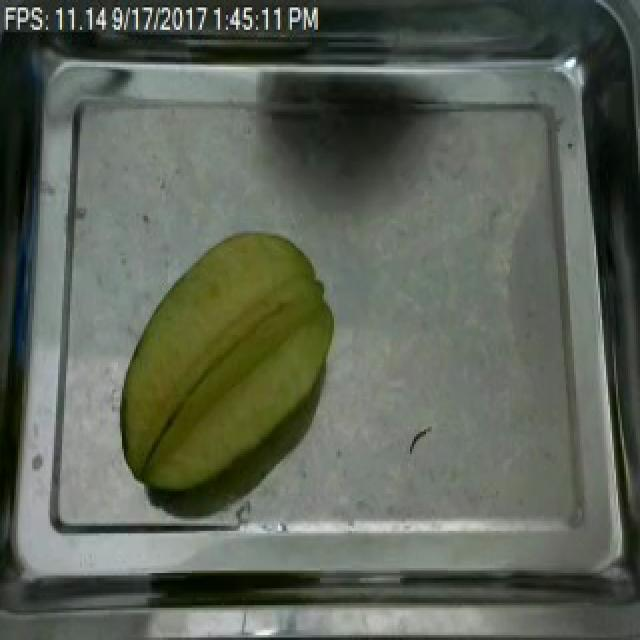fruit: (110, 226, 346, 506)
